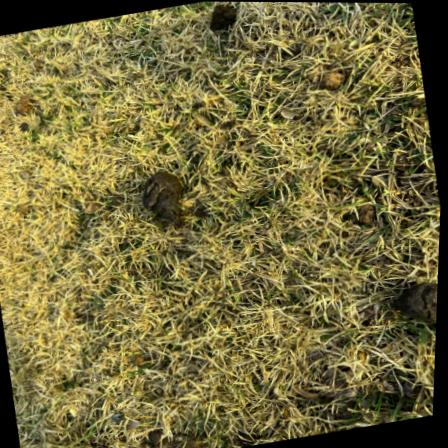dog-poop: (125, 160, 206, 247), (387, 274, 440, 331)
